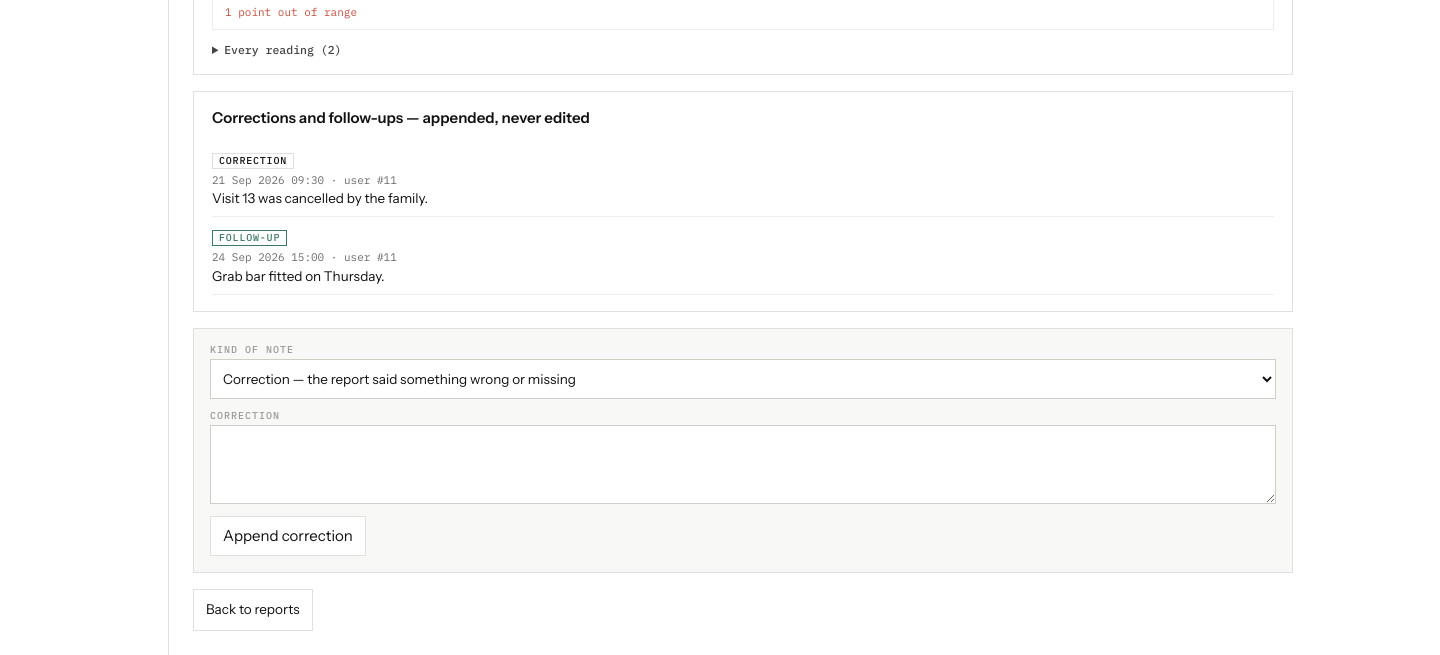
one report › tells a follow-up from a correction and appends one
(page scrolled)
Select "Follow-up — what was done about something it recorded" in the dropdown labelled "Kind of note" at (743, 379), box [210,359,1276,399]
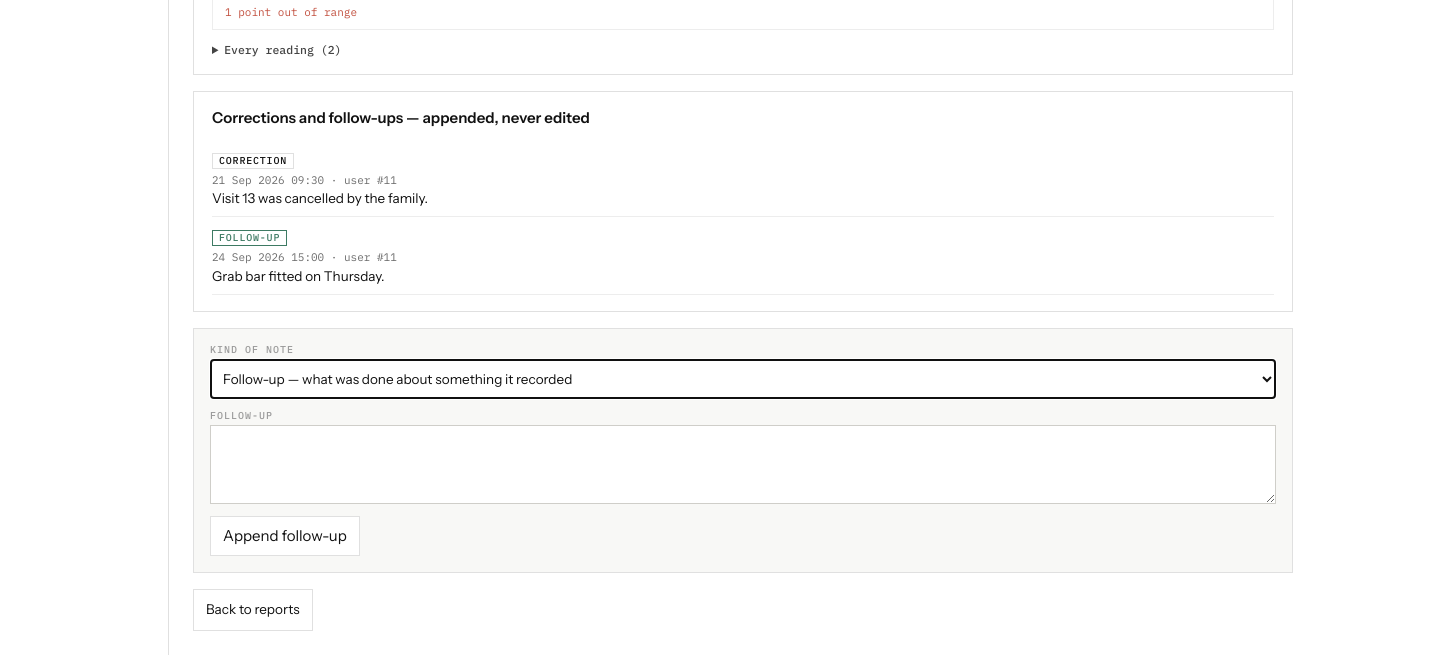
Type "Family told about the new grab bar." into the text box labelled "Follow-up" at (743, 464), box [210,425,1276,504]
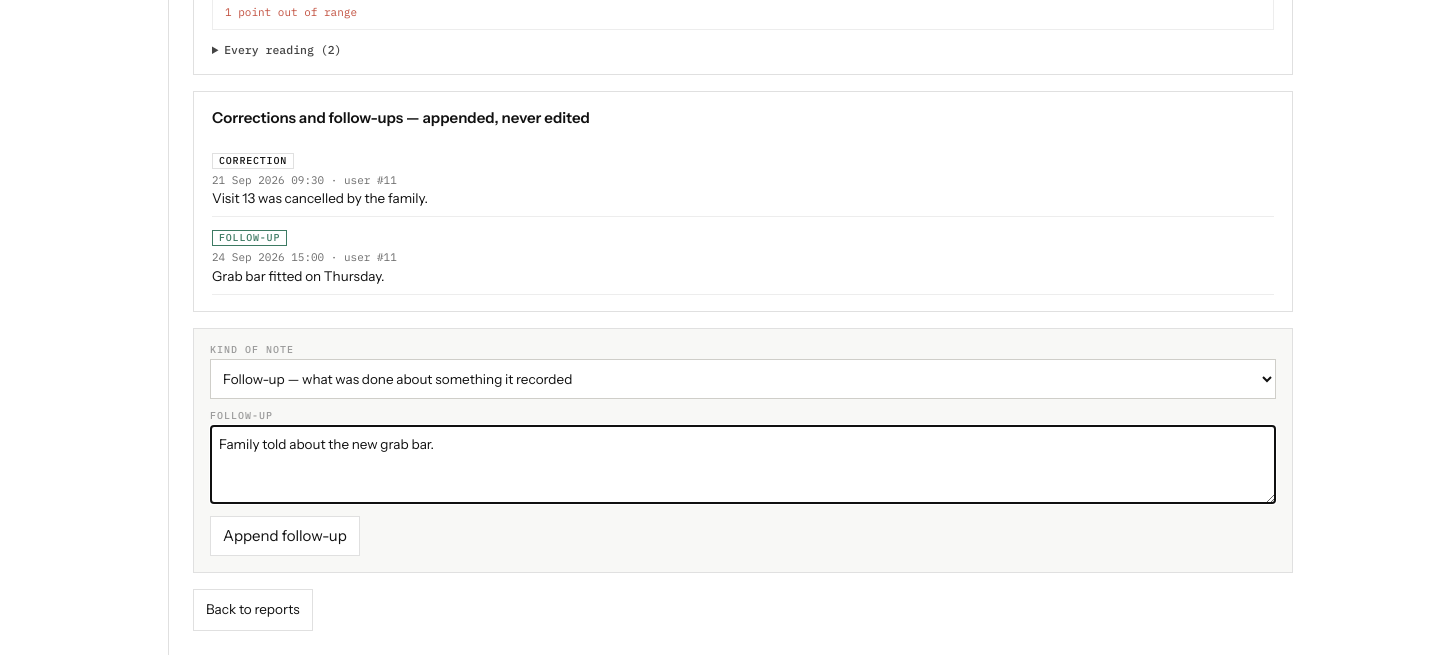
Click the button "Append follow-up" at (285, 536), box [210,516,360,556]
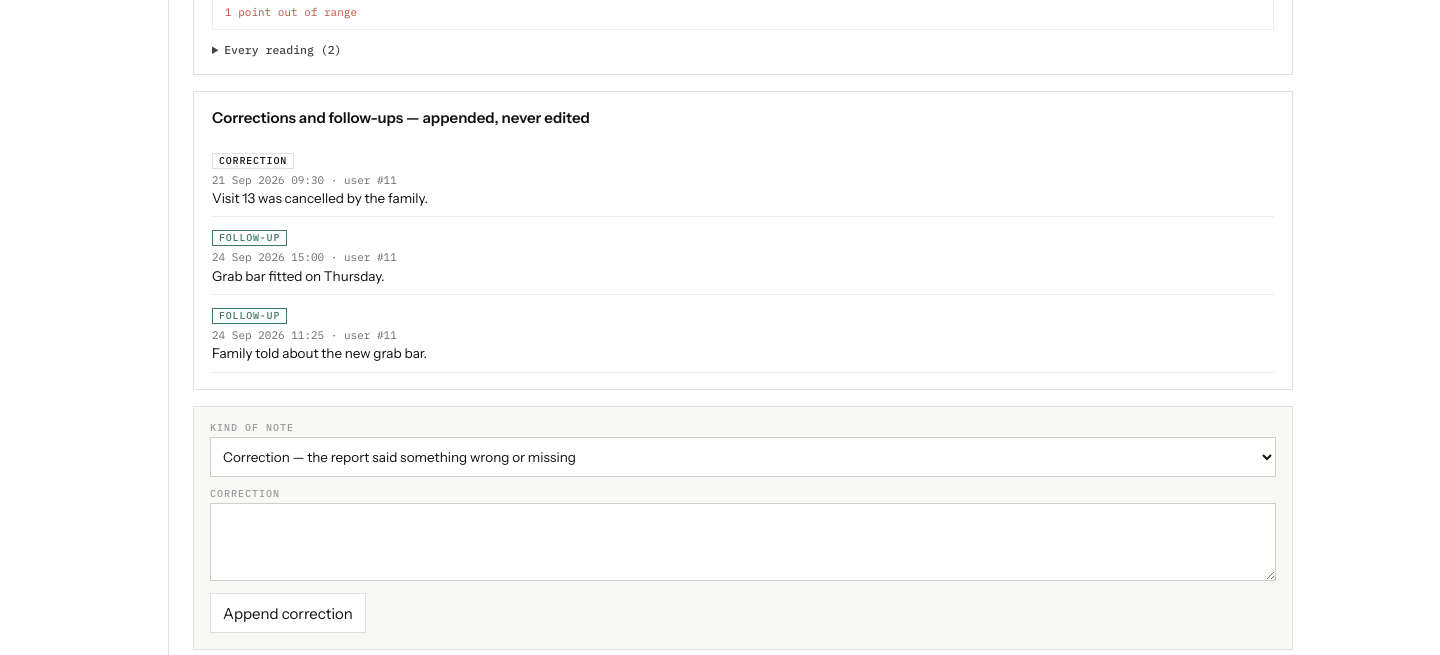
Expected: the text "Family told about the new grab bar." is shown, [212,345,427,361]
Expected: the dropdown labelled "Kind of note" shows "Correction — the report said something wrong or missing", [210,437,1276,477]
